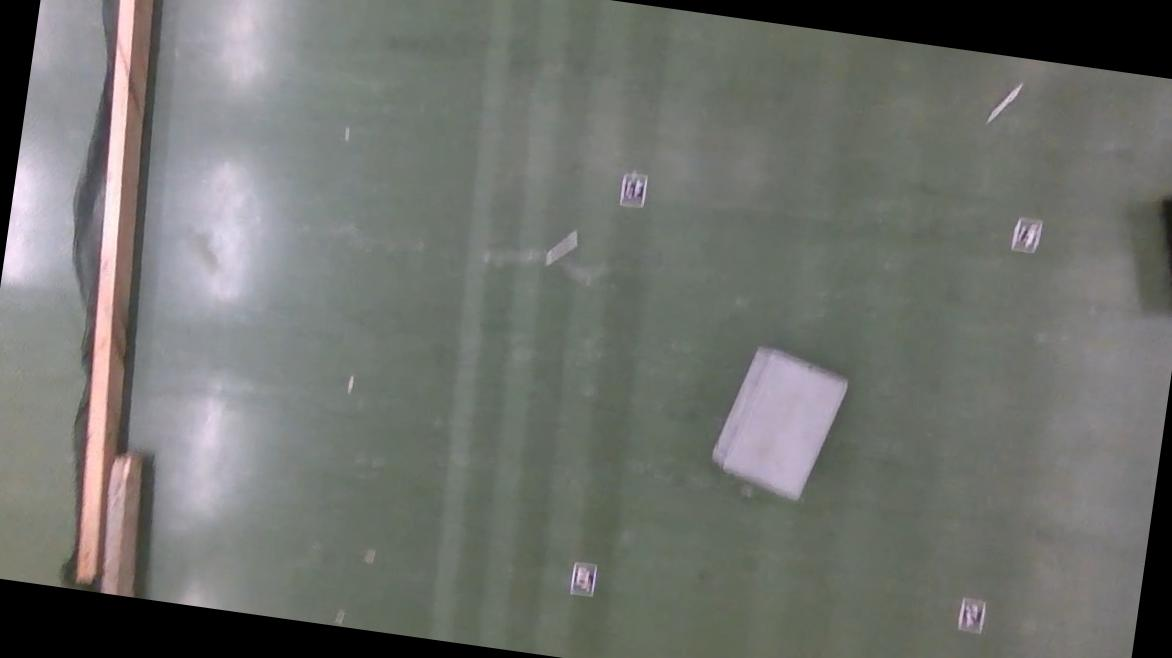probes: (988, 78, 1021, 126), (543, 227, 578, 268)
rako: (708, 338, 852, 504)
